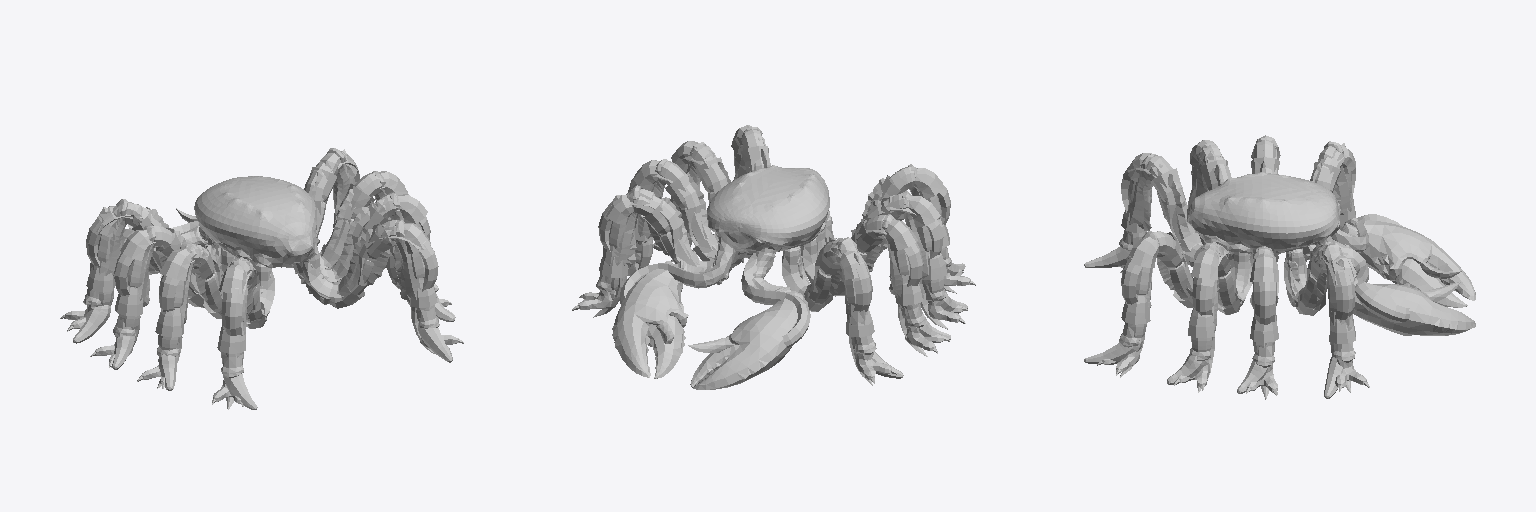
File: ROCKSPIDER.obj
3 views of the same model, side by side, from view 1: azimuth 30°, elevation 25°; view 2: azimuth 150°, elevation 25°; view 3: azimuth 270°, elevation 25° (orthographic).
Visible parts, largest first — view 1: Body_1, _Legs_2, _LeggD_1, _LeggC_1, _LeggB_1, _LeggA_1, RightLeg4, LeftLeg1, LeftLeg2, LeftLeg4, LeftLeg3, _LegA_1 (+2 smaller); view 2: Body_1, _Legs_2, Crab_CRightPincer, Crab_CLeftPincer, _LeggA_1, _LeggB_1, _Arms_1, _LeggC_1, _LeggD_1, _LegA_1, LeftLeg2, LeftLeg1 (+3 smaller); view 3: Body_1, _Legs_2, _LeggD_1, Crab_CLeftPincer, _LeggC_1, _LeggA_1, Crab_CRightPincer, _Arms_1, _LeggB_1, LeftLeg4, _LegA_1, RightLeg4 (+3 smaller).
Boxes of the visible parts, box(x1,y1,x2,y2) form: Body_1: box(194, 176, 317, 268); _Legs_2: box(86, 157, 438, 409); _LeggD_1: box(217, 220, 452, 409); _LeggC_1: box(155, 194, 454, 390); _LeggB_1: box(112, 171, 438, 369); _LeggA_1: box(73, 151, 386, 343); RightLeg4: box(303, 220, 458, 349); LeftLeg1: box(65, 199, 217, 328); LeftLeg2: box(95, 226, 189, 361); LeftLeg4: box(213, 258, 270, 403); LeftLeg3: box(141, 244, 222, 383); _LegA_1: box(312, 148, 350, 222); Body_1: box(707, 165, 829, 253); _Legs_2: box(593, 144, 956, 385); Crab_CRightPincer: box(612, 236, 728, 378); Crab_CLeftPincer: box(690, 249, 807, 389); _LeggA_1: box(597, 195, 903, 378); _LeggB_1: box(633, 160, 950, 339); _Arms_1: box(620, 237, 810, 352); _LeggC_1: box(670, 141, 967, 311); _LeggD_1: box(731, 125, 965, 275); _LegA_1: box(578, 185, 729, 309); LeftLeg2: box(851, 214, 943, 350); LeftLeg1: box(797, 237, 891, 379); Body_1: box(1187, 172, 1339, 254); _Legs_2: box(1120, 149, 1355, 399); _LeggD_1: box(1084, 153, 1202, 363); Crab_CLeftPincer: box(1339, 218, 1475, 307); _LeggC_1: box(1167, 140, 1248, 384); _LeggA_1: box(1286, 145, 1355, 398); Crab_CRightPincer: box(1319, 240, 1475, 335); _Arms_1: box(1326, 214, 1461, 322); _LeggB_1: box(1237, 135, 1280, 393); LeftLeg4: box(1118, 154, 1200, 267); _LegA_1: box(1286, 243, 1366, 387); RightLeg4: box(1102, 231, 1180, 372).
Bounding box in the file's own units: 2.25 × 0.8969 × 2.28.